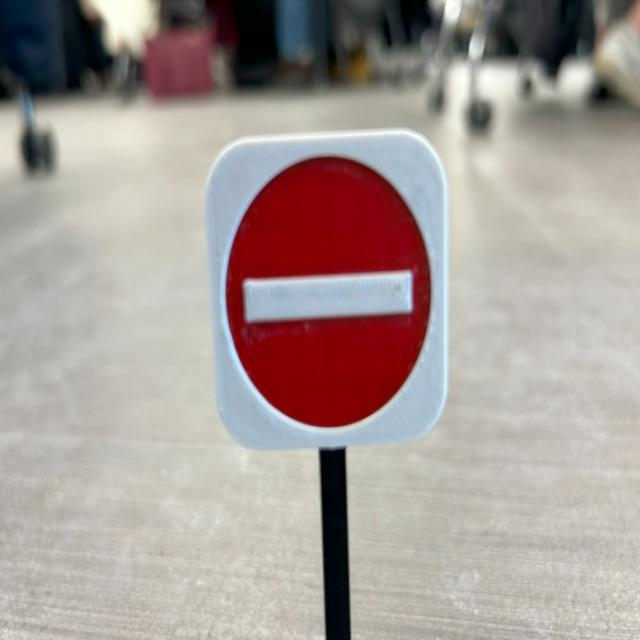sign_noentry: (186, 112, 464, 476)
